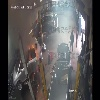fire: (28, 44, 39, 70)
